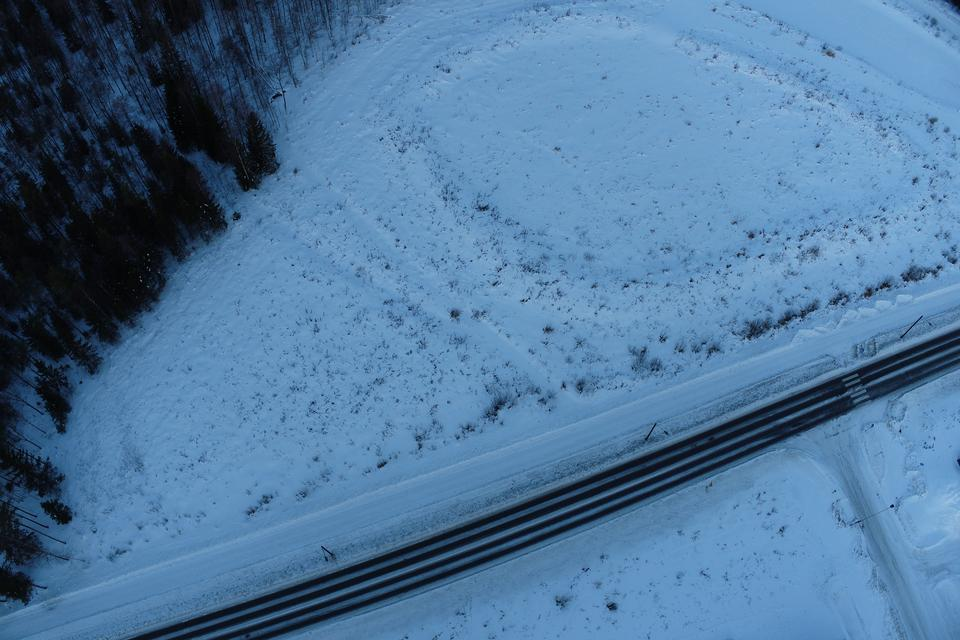intersection: (746, 346, 902, 472)
